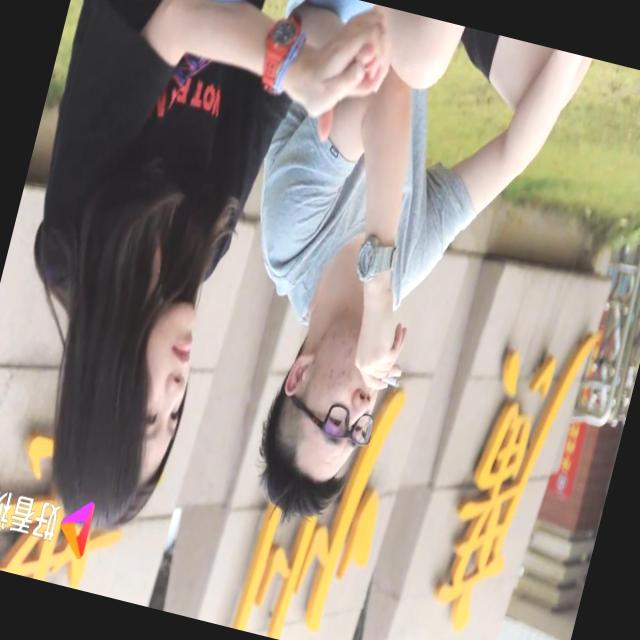cigarette: (366, 361, 412, 400)
